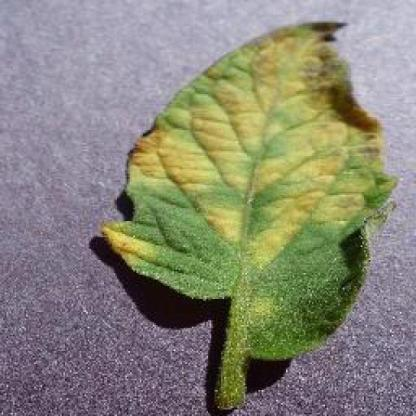Tomato_Leaf_Mold: (101, 17, 399, 362), (153, 266, 156, 266)
